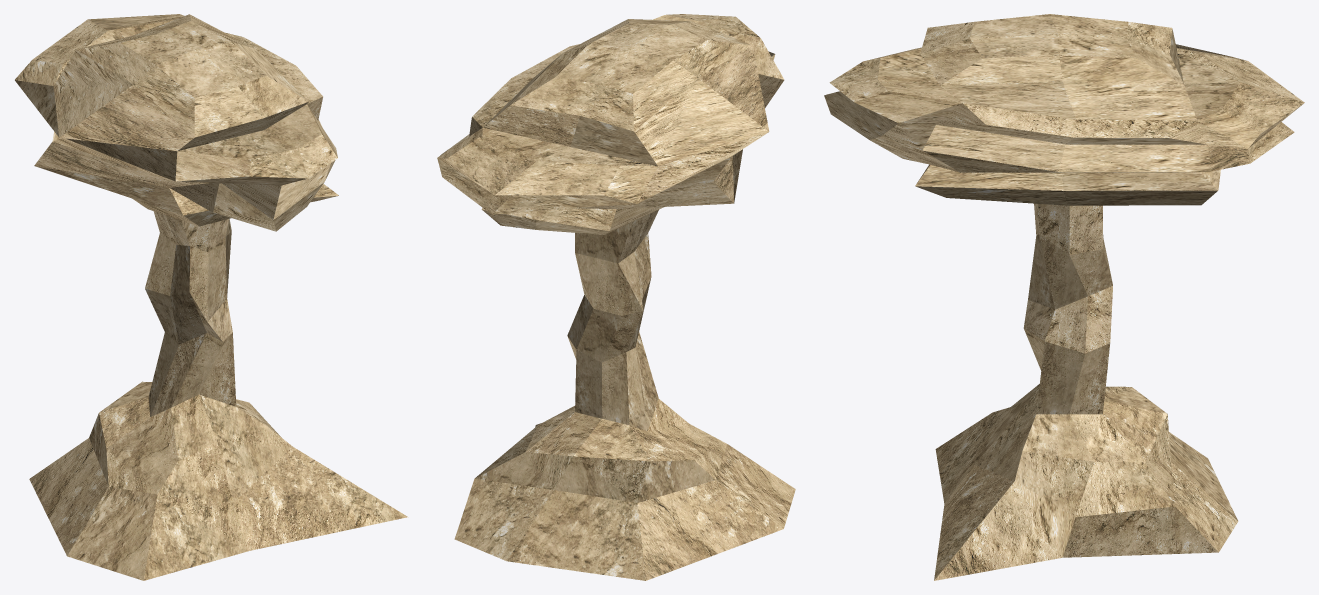
File: rock-set-desert-07.dae
3 views of the same model, side by side, from view 1: azimuth 30°, elevation 25°; view 2: azimuth 150°, elevation 25°; view 3: azimuth 270°, elevation 25° (orthographic). The views are drawn at different scales.
Visible parts, largest first — view 1: Cube_011; view 2: Cube_011; view 3: Cube_011.
Part boxes in pixels (left/top/right/bottom): Cube_011: left=15, top=14, right=408, bottom=580; Cube_011: left=437, top=14, right=795, bottom=580; Cube_011: left=824, top=14, right=1304, bottom=580.
Bounding box in the file's own units: 1.86 × 2.56 × 2.76.
